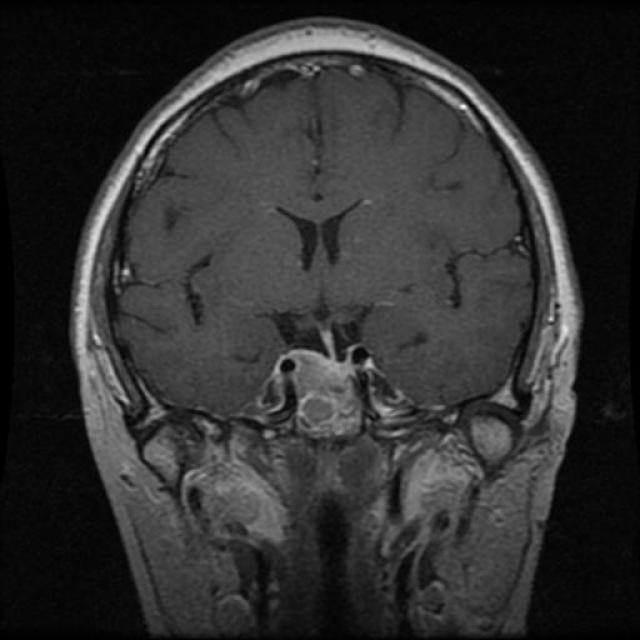pituitary: (278, 317, 394, 427)
